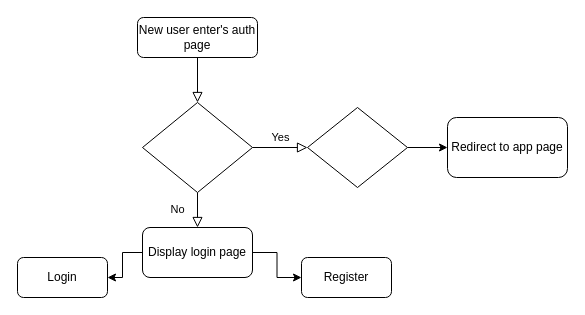
Some shapes in this 585 by 315 pixel diagram are drawn without their labels. Here are the shapes that lost their labels. From the top down, the centre of each, then its label:
At point (197, 147): "User has session_token cookie?".
At point (357, 147): "Is it valid?".
